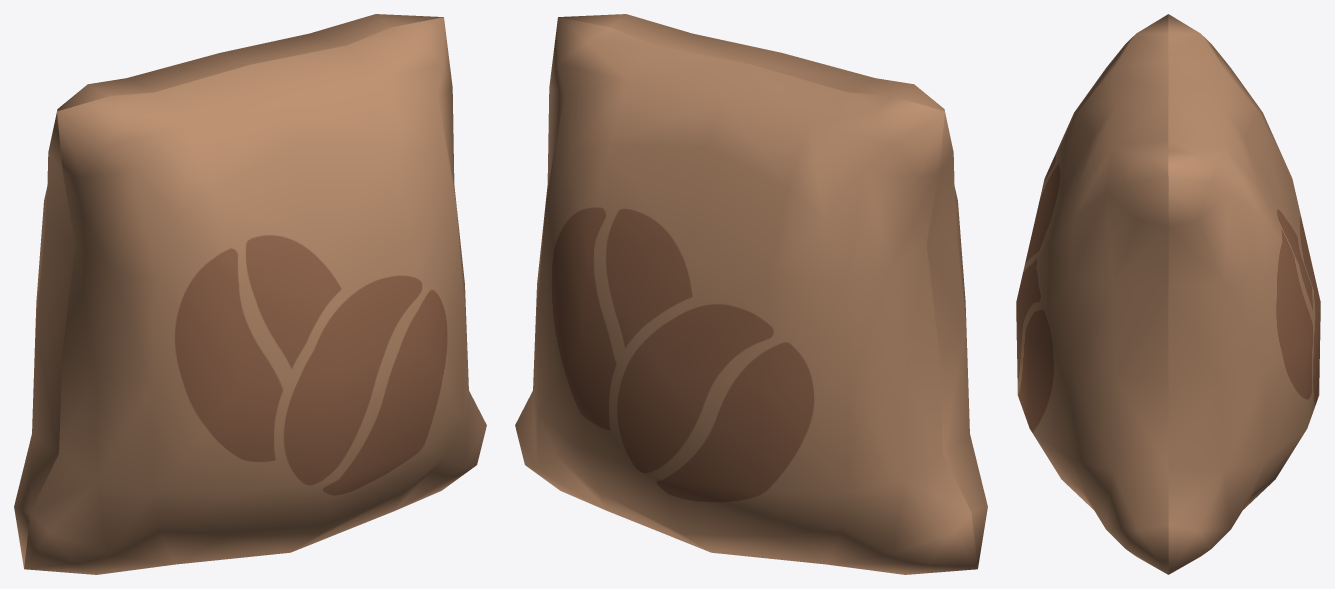
The model's file is CoffeeBag_geo.fbx.
3 renders of one model, left to right at view 1: azimuth 30°, elevation 25°; view 2: azimuth 150°, elevation 25°; view 3: azimuth 270°, elevation 25°, orthographic. The views are drawn at different scales.
Parts seen in each view (by area): view 1: CoffeeBag_geo; view 2: CoffeeBag_geo; view 3: CoffeeBag_geo.
Boxes of the visible parts, x1,y1,x2,y2 form: CoffeeBag_geo: [14, 14, 486, 574]; CoffeeBag_geo: [515, 14, 987, 574]; CoffeeBag_geo: [1016, 14, 1320, 574].
Bounding box in the file's own units: 0.5732 × 0.3898 × 0.561.
